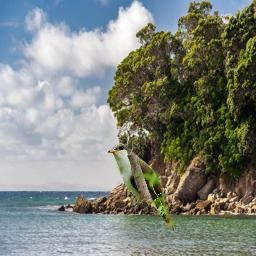Cuckoo: (105, 143, 179, 231)
